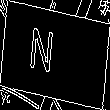N_S: (41, 27, 69, 83)
